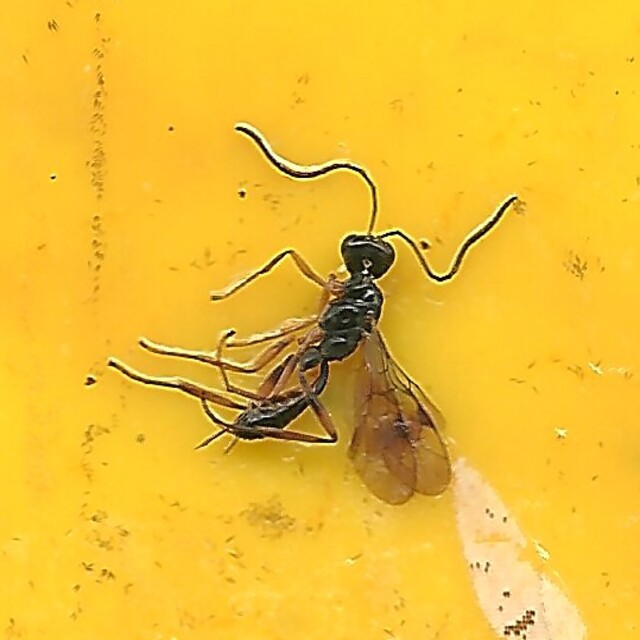Hymenoptera: (119, 128, 521, 512)
